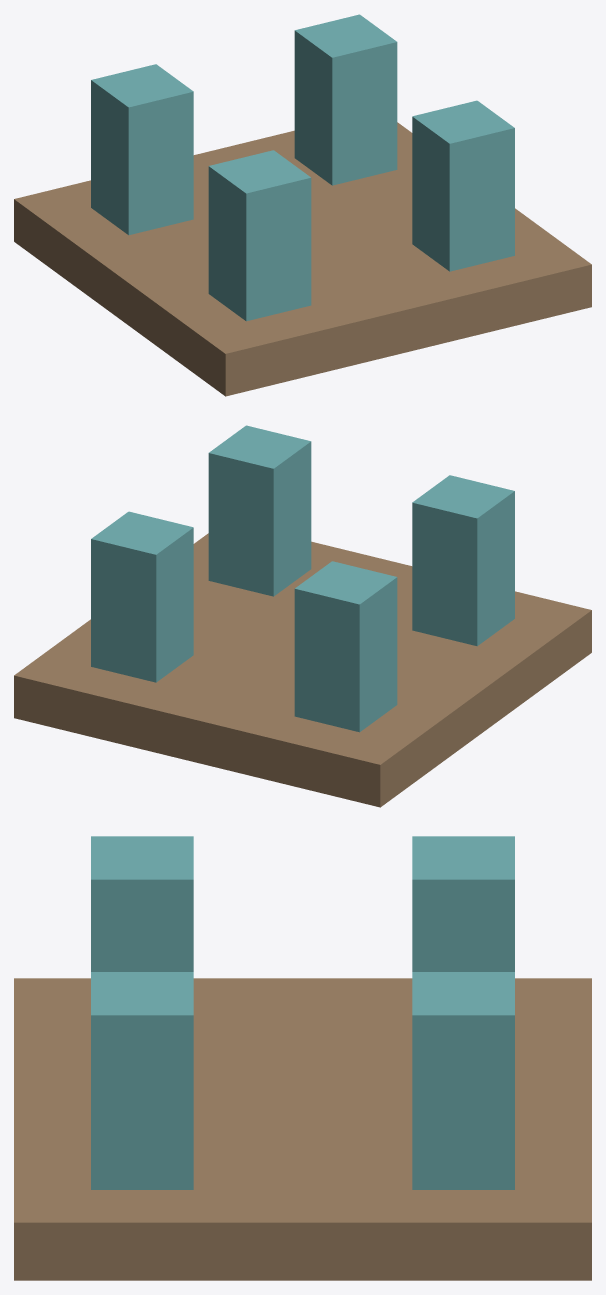
Rendered from Prop_DS_Crop_Kelpweed_S2_V1.glb.
3 renders of one model, top to bottom at view 1: azimuth 30°, elevation 25°; view 2: azimuth 150°, elevation 25°; view 3: azimuth 270°, elevation 25°, orthographic. The views are drawn at different scales.
Visible parts, largest first — view 1: Prop_DS_Crop_Kelpweed_S2_V1; view 2: Prop_DS_Crop_Kelpweed_S2_V1; view 3: Prop_DS_Crop_Kelpweed_S2_V1.
Boxes of the visible parts, x1=… form: Prop_DS_Crop_Kelpweed_S2_V1: x1=14, y1=14, x2=591, y2=396; Prop_DS_Crop_Kelpweed_S2_V1: x1=14, y1=425, x2=591, y2=807; Prop_DS_Crop_Kelpweed_S2_V1: x1=14, y1=836, x2=591, y2=1280.
Size of the model in its own units: 0.9 by 0.4 by 0.9.
